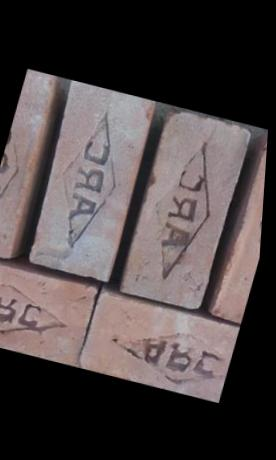brick: (22, 78, 159, 281), (120, 109, 254, 311), (79, 292, 241, 402), (0, 66, 63, 259), (0, 252, 104, 366), (208, 126, 268, 321)
